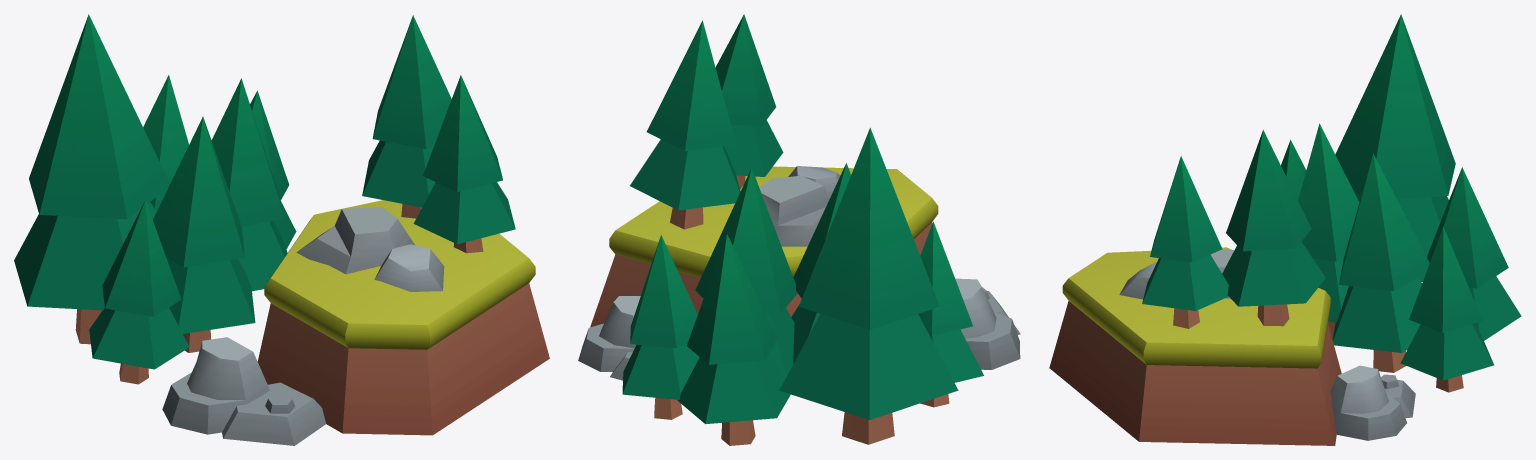
File: hills_c_trees.glb
The picture shows the model from 3 angles, left to right: view 1: azimuth 30°, elevation 25°; view 2: azimuth 150°, elevation 25°; view 3: azimuth 270°, elevation 25°; orthographic projection. The views are drawn at different scales.
Visible parts, largest first — view 1: hills_C_trees; view 2: hills_C_trees; view 3: hills_C_trees.
Part boxes in pixels (left/top/right/bottom): hills_C_trees: left=14, top=14, right=549, bottom=445; hills_C_trees: left=578, top=14, right=1020, bottom=445; hills_C_trees: left=1049, top=14, right=1521, bottom=445.
Size of the model in its own units: 1.7 by 1.3 by 1.9.
Materials: 1 (1 with a texture image).
